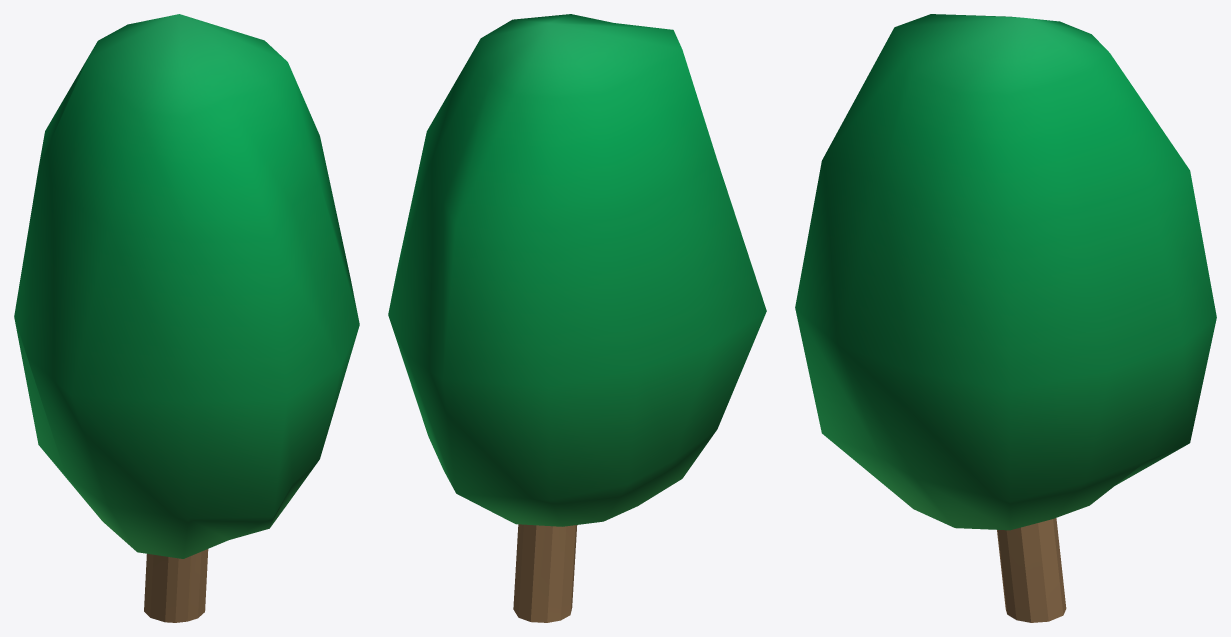
The model's file is tree_two.FBX.
The picture shows the model from 3 angles, left to right: view 1: azimuth 30°, elevation 25°; view 2: azimuth 150°, elevation 25°; view 3: azimuth 270°, elevation 25°; orthographic projection. The views are drawn at different scales.
Parts seen in each view (by area): view 1: Sphere002; view 2: Sphere002; view 3: Sphere002.
Boxes of the visible parts, bbox=[...] form: Sphere002: bbox=[14, 14, 359, 622]; Sphere002: bbox=[388, 14, 766, 622]; Sphere002: bbox=[795, 14, 1216, 622].
Size of the model in its own units: 7.46 by 12.98 by 8.38.
